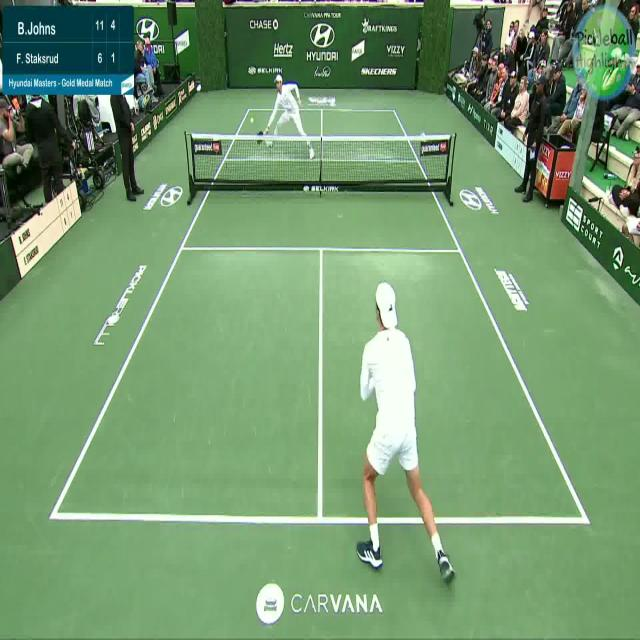ball: (247, 111, 258, 128)
